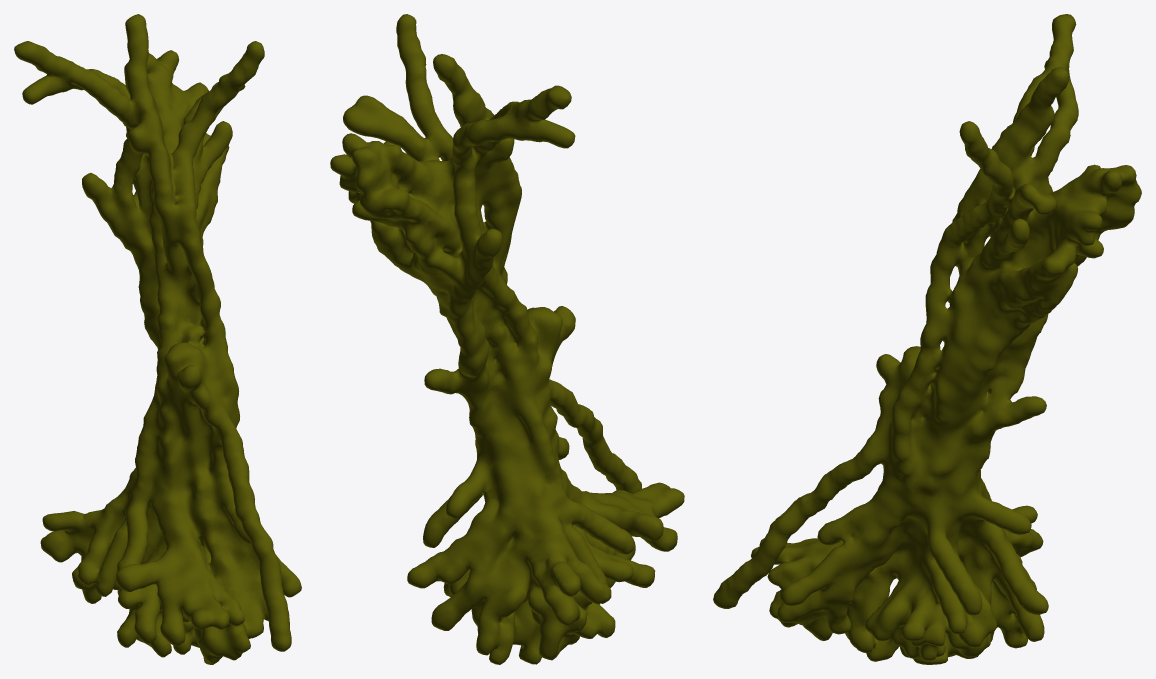
File: Optic_radiation.obj
3 views of the same model, side by side, from view 1: azimuth 30°, elevation 25°; view 2: azimuth 150°, elevation 25°; view 3: azimuth 270°, elevation 25° (orthographic). The views are drawn at different scales.
Visible parts, largest first — view 1: grp1; view 2: grp1; view 3: grp1.
Part boxes in pixels (left/top/right/bottom): grp1: left=14, top=14, right=301, bottom=664; grp1: left=330, top=14, right=684, bottom=664; grp1: left=713, top=14, right=1141, bottom=664.
Bounding box in the file's own units: 45.56 × 116 × 73.61.
